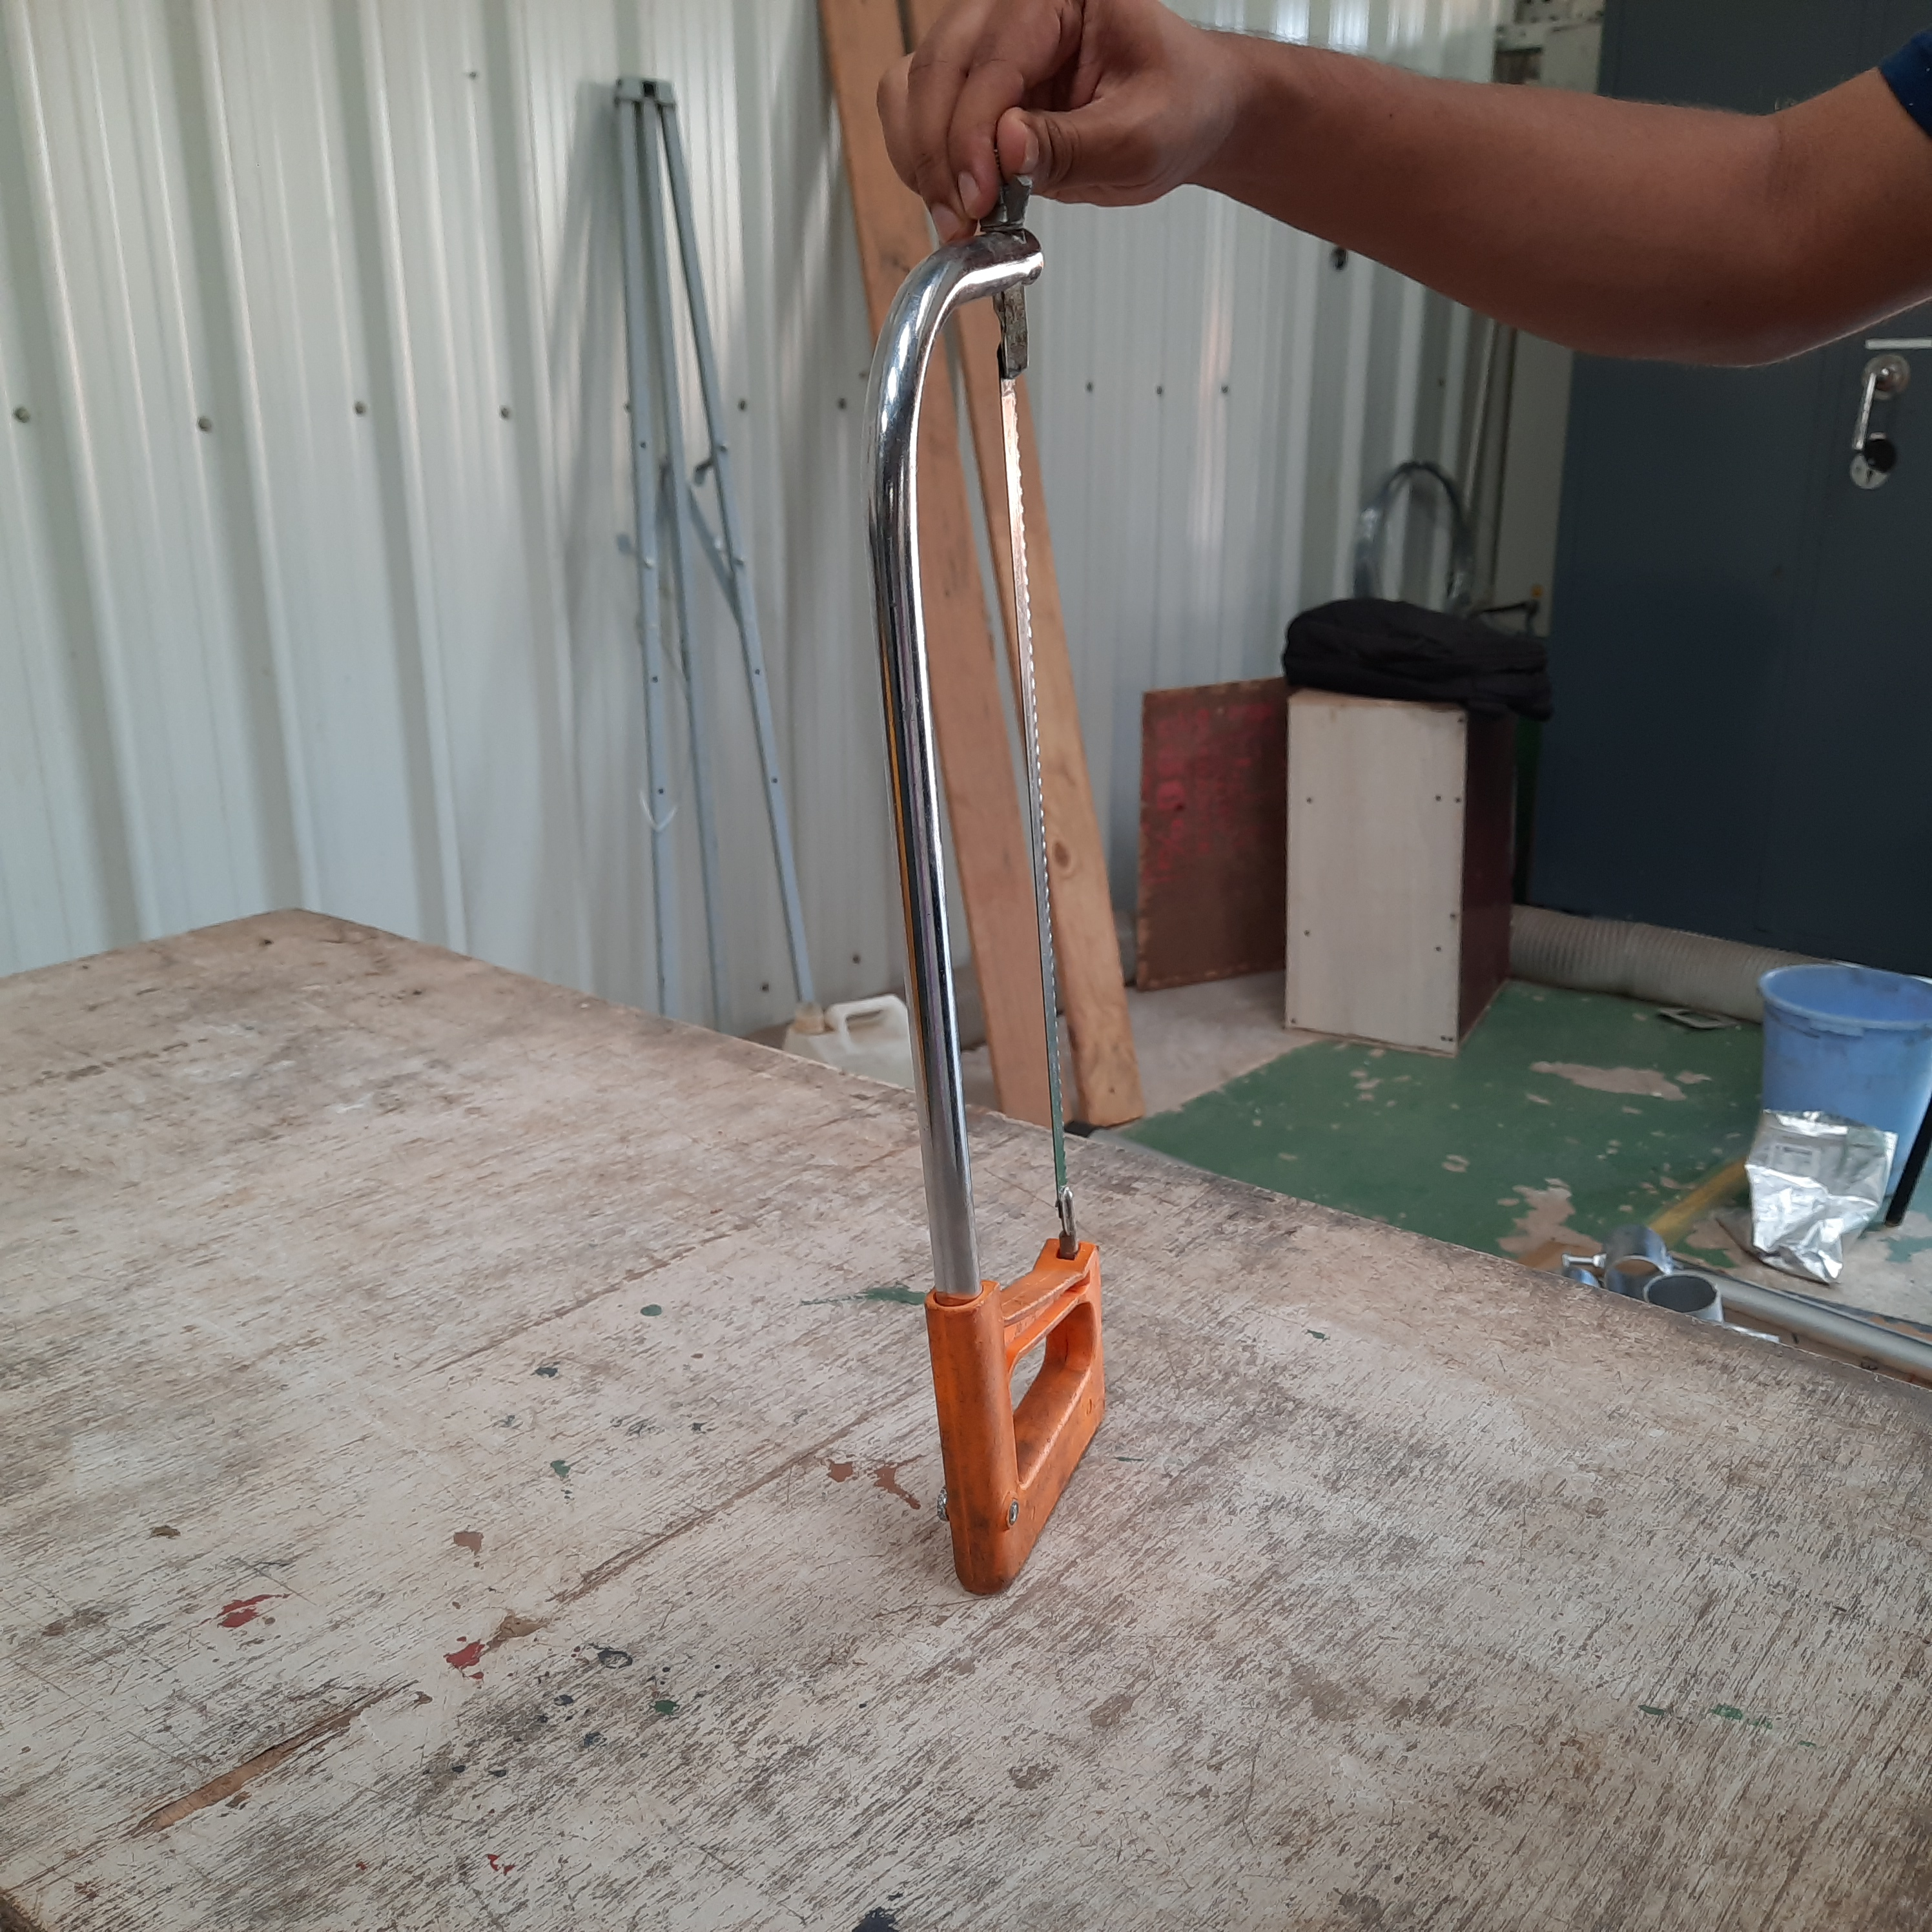Hexaframe: (819, 161, 1207, 1594)
